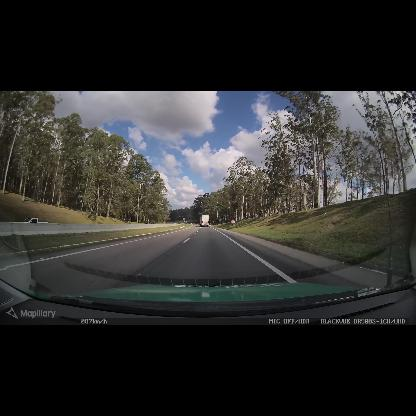R-19: (231, 220, 235, 224)
